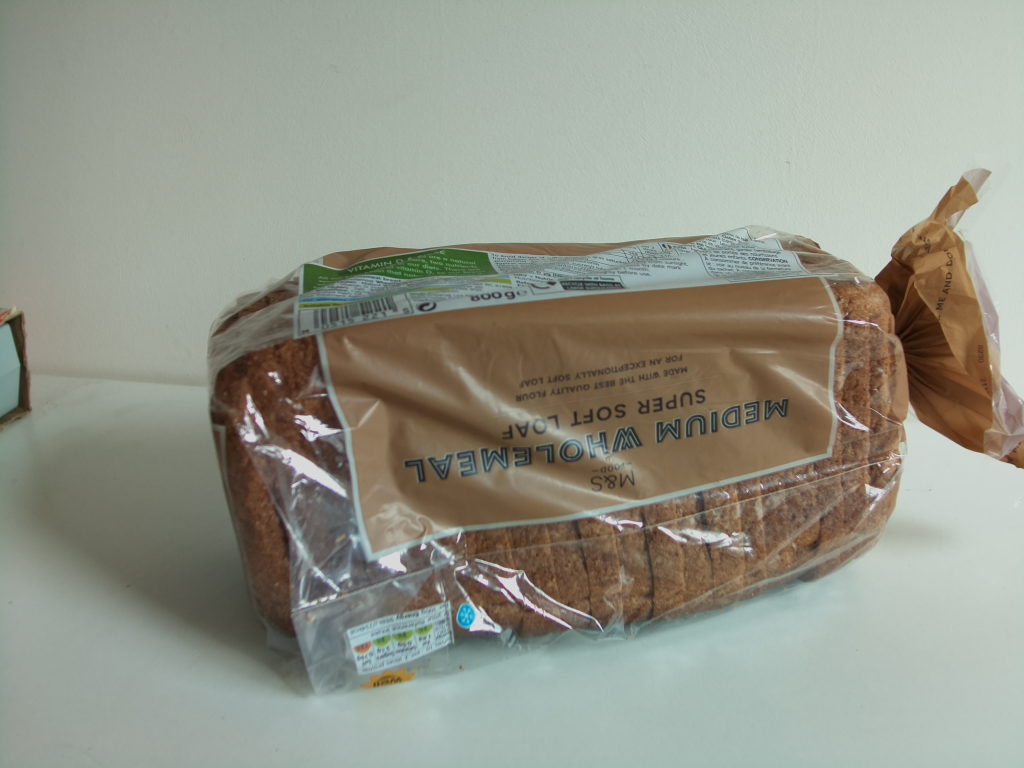bread: (205, 166, 1024, 696)
